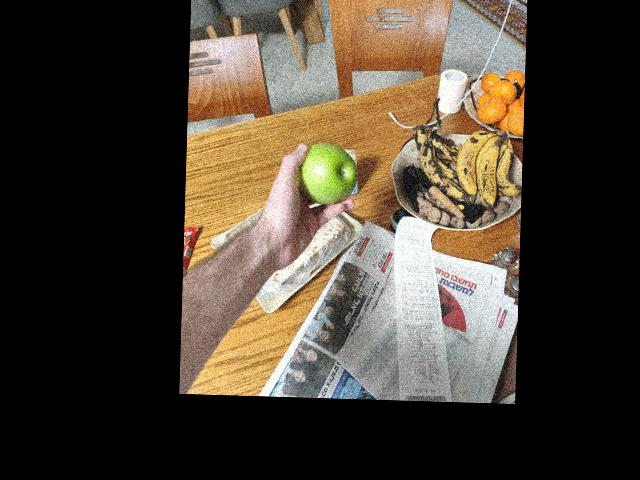apple: (292, 139, 353, 209)
